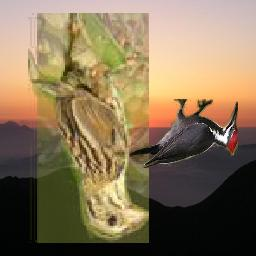Sparrow: (29, 13, 150, 243)
Woodpecker: (130, 100, 238, 169)
